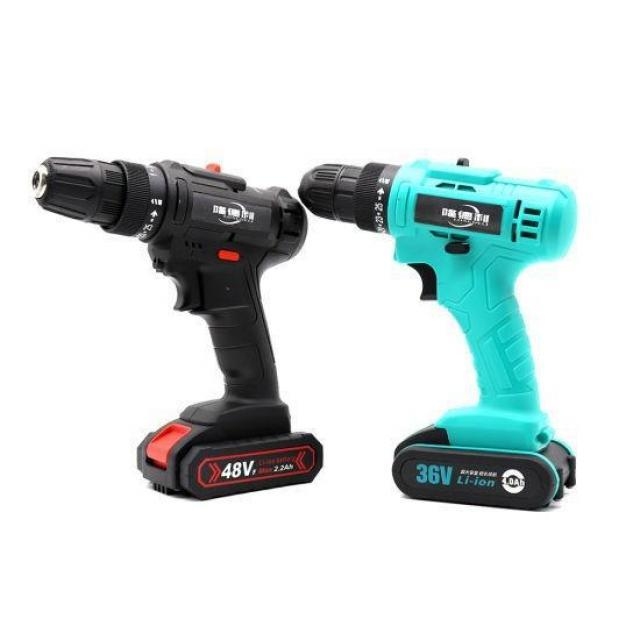drill: (31, 156, 324, 500), (300, 158, 580, 510)
